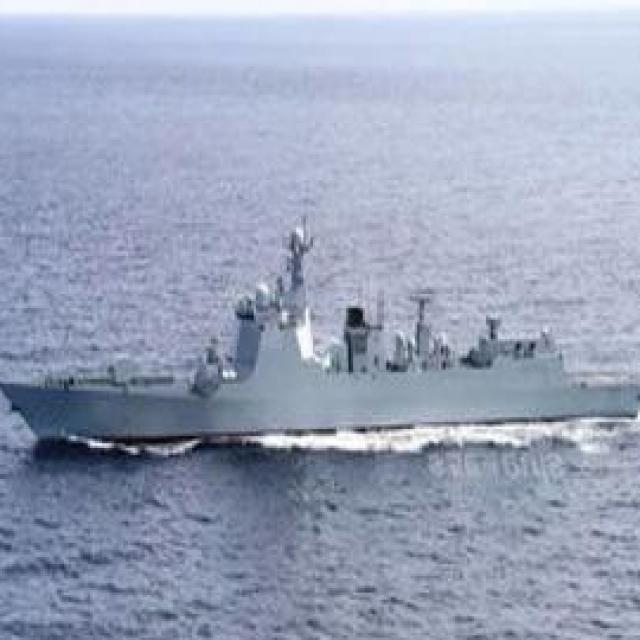navalvessels: (0, 208, 640, 441)
